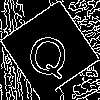Q: (25, 25, 73, 81)
